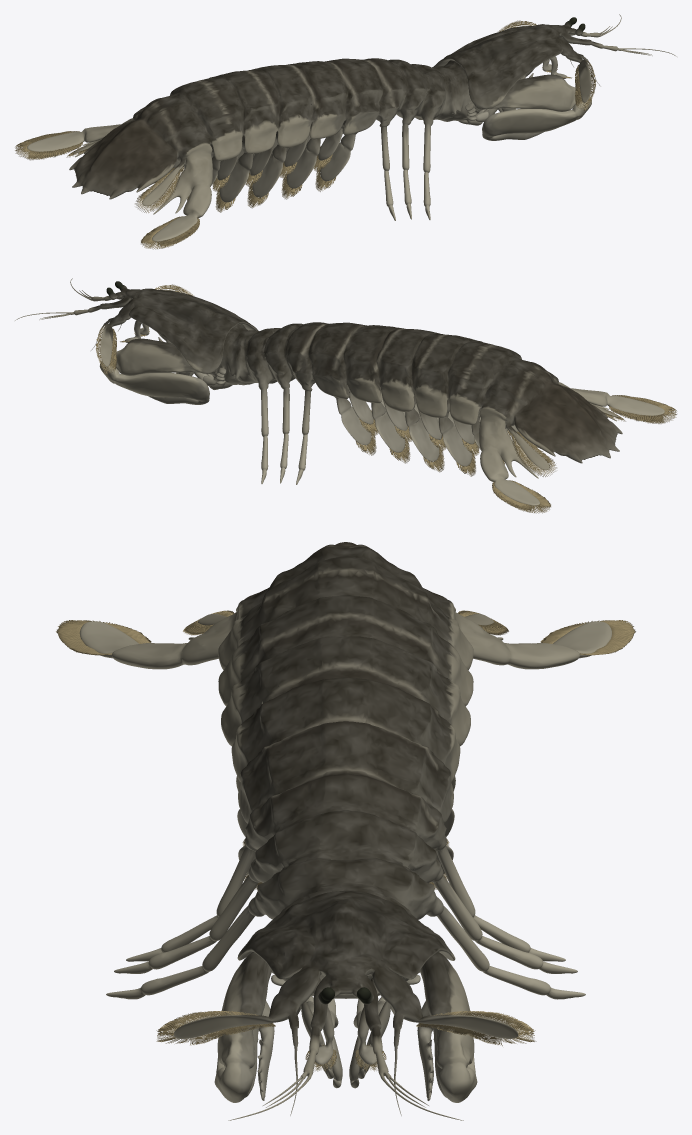
The model's file is model-source-squilla-empusa-v0707.glb.
3 renders of one model, top to bottom at view 1: azimuth 30°, elevation 25°; view 2: azimuth 150°, elevation 25°; view 3: azimuth 270°, elevation 25°, orthographic. The views are drawn at different scales.
Visible parts, largest first — view 1: mantis_shrimp, mantis_shrimp_hairs; view 2: mantis_shrimp, mantis_shrimp_hairs; view 3: mantis_shrimp, mantis_shrimp_hairs, first_maxilliped_.
Boxes of the visible parts, x1,y1,x2,y2 form: mantis_shrimp: (27, 14, 676, 241); mantis_shrimp_hairs: (15, 20, 595, 249); mantis_shrimp: (15, 278, 664, 505); mantis_shrimp_hairs: (96, 284, 676, 513); mantis_shrimp: (79, 542, 611, 1120); mantis_shrimp_hairs: (56, 610, 635, 1046); first_maxilliped_: (313, 978, 378, 1065).
Bounding box in the file's own units: 0.2006 × 0.0446 × 0.0883.
